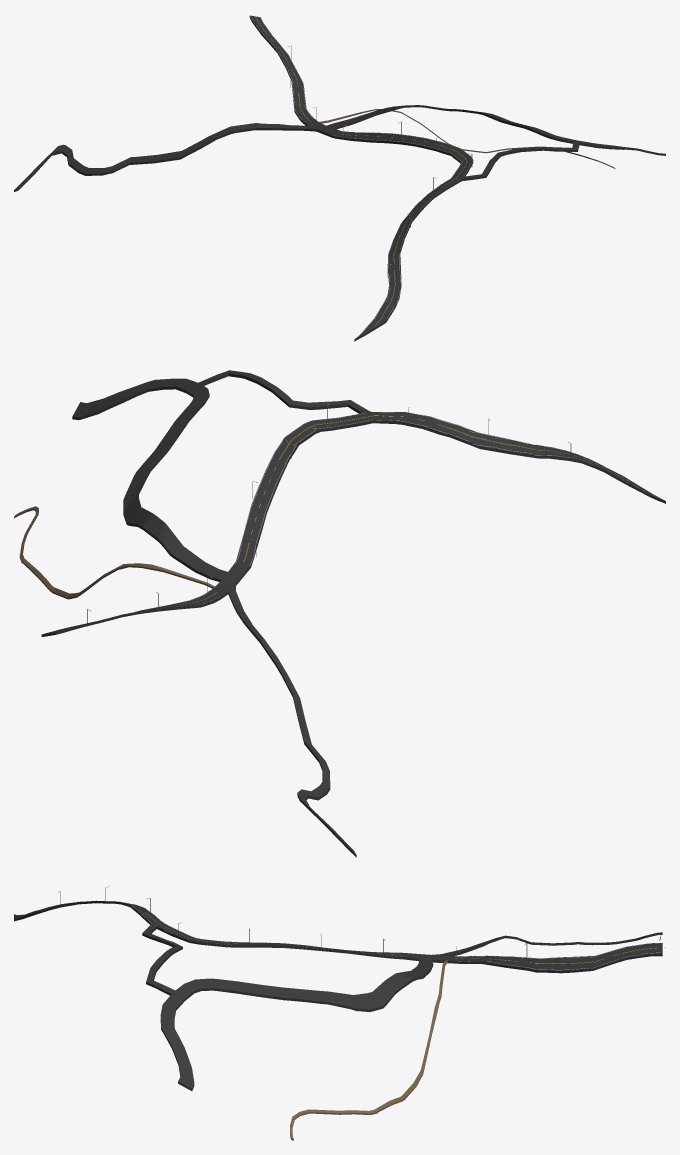
3 renders of one model, top to bottom at view 1: azimuth 30°, elevation 25°; view 2: azimuth 150°, elevation 25°; view 3: azimuth 270°, elevation 25°, orthographic. The views are drawn at different scales.
Bounding box in the file's own units: 251 × 76.65 × 293.
